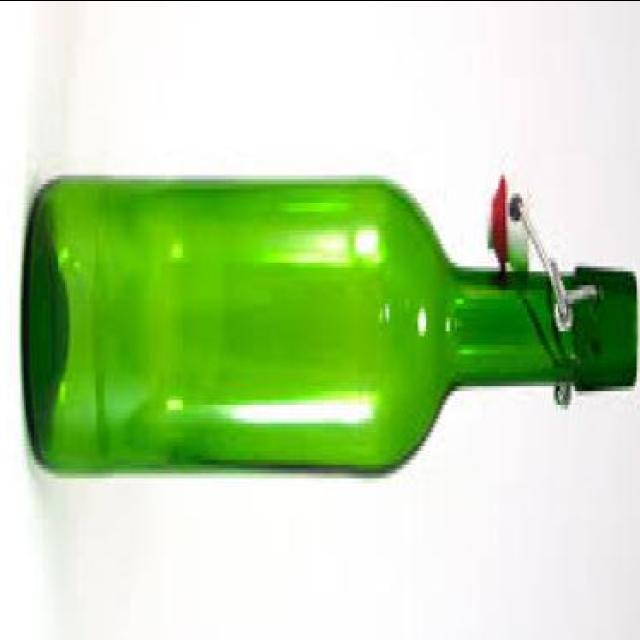kaca: (24, 174, 638, 468)
